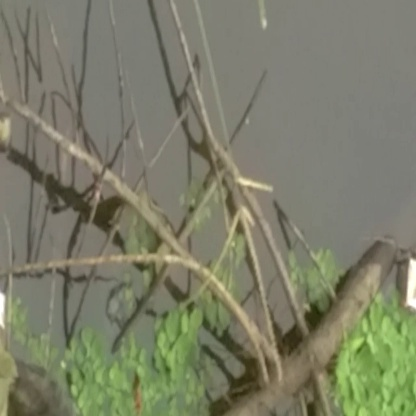branch: (19, 103, 275, 350)
